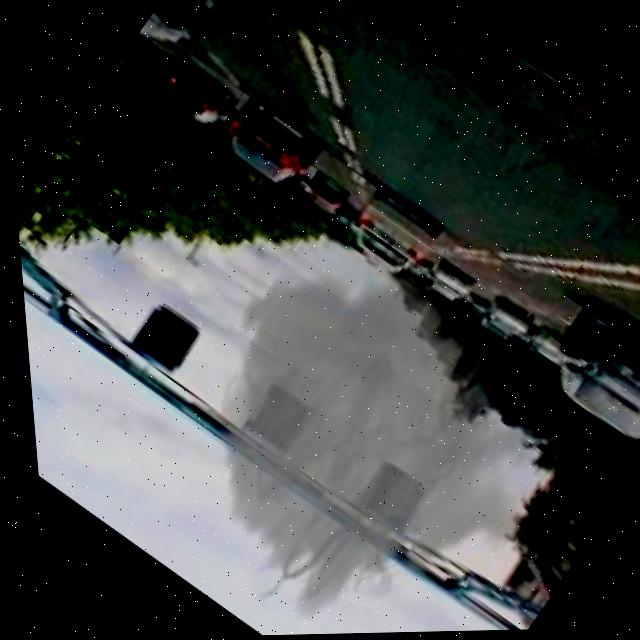Smoke: (79, 207, 592, 639)
